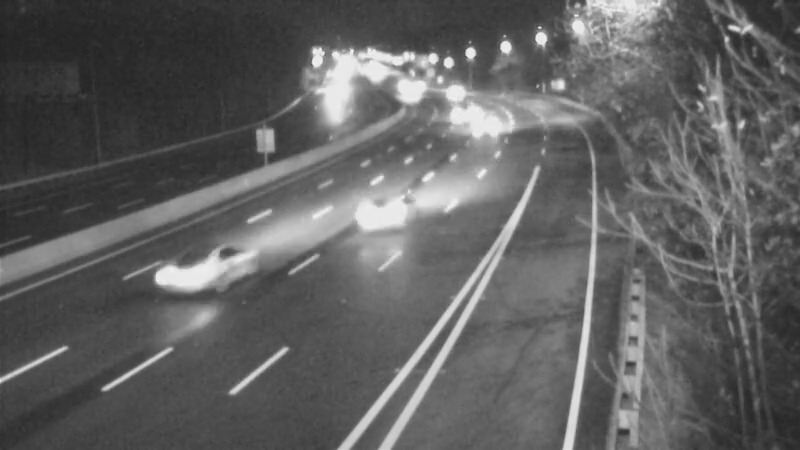vehicle: (346, 168, 426, 248), (155, 229, 235, 309), (427, 64, 477, 114), (382, 74, 432, 124), (431, 88, 481, 138), (459, 93, 509, 143)
